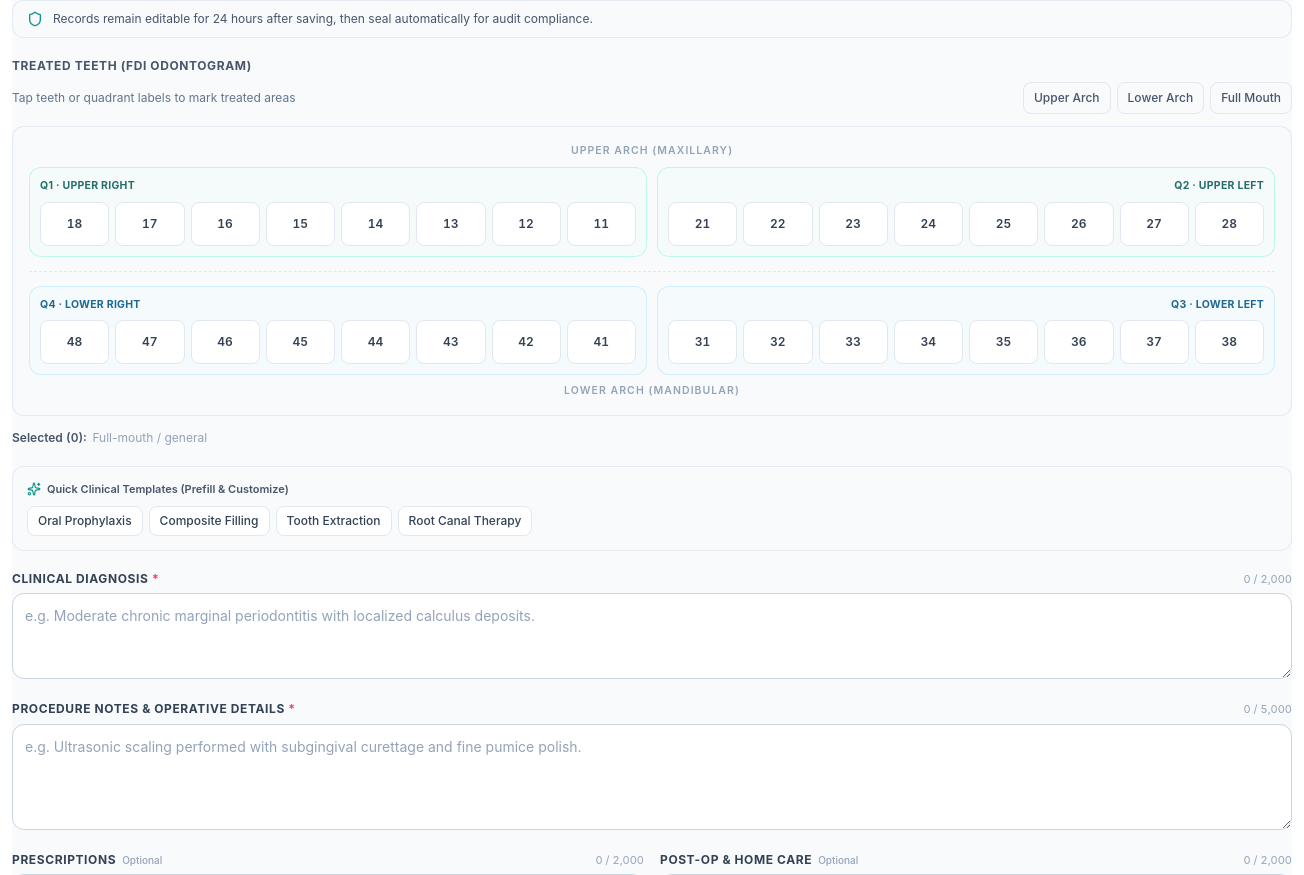
Test: TreatmentRecordEditor Component › toggles Full Mouth, quadrant selection, and Clear in FDI chart
Click the button "Full Mouth": (1251, 98) [1210, 82, 1292, 114]
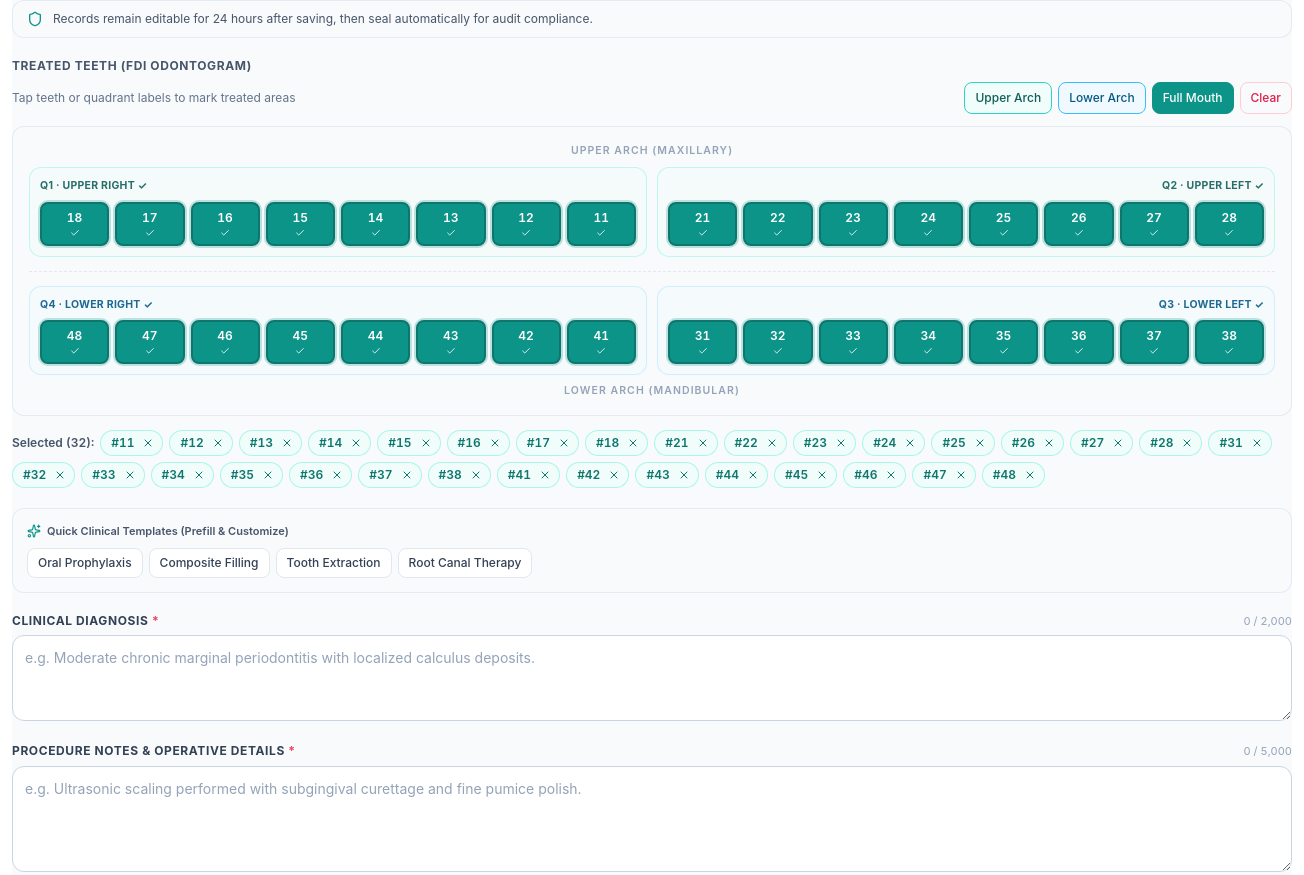
Expected: the text "Selected (32):" is shown, [12, 435, 94, 451]
// Clicking Full Mouth again toggles all 32 teeth off
Click the button "Full Mouth": (1193, 98) [1152, 82, 1234, 114]
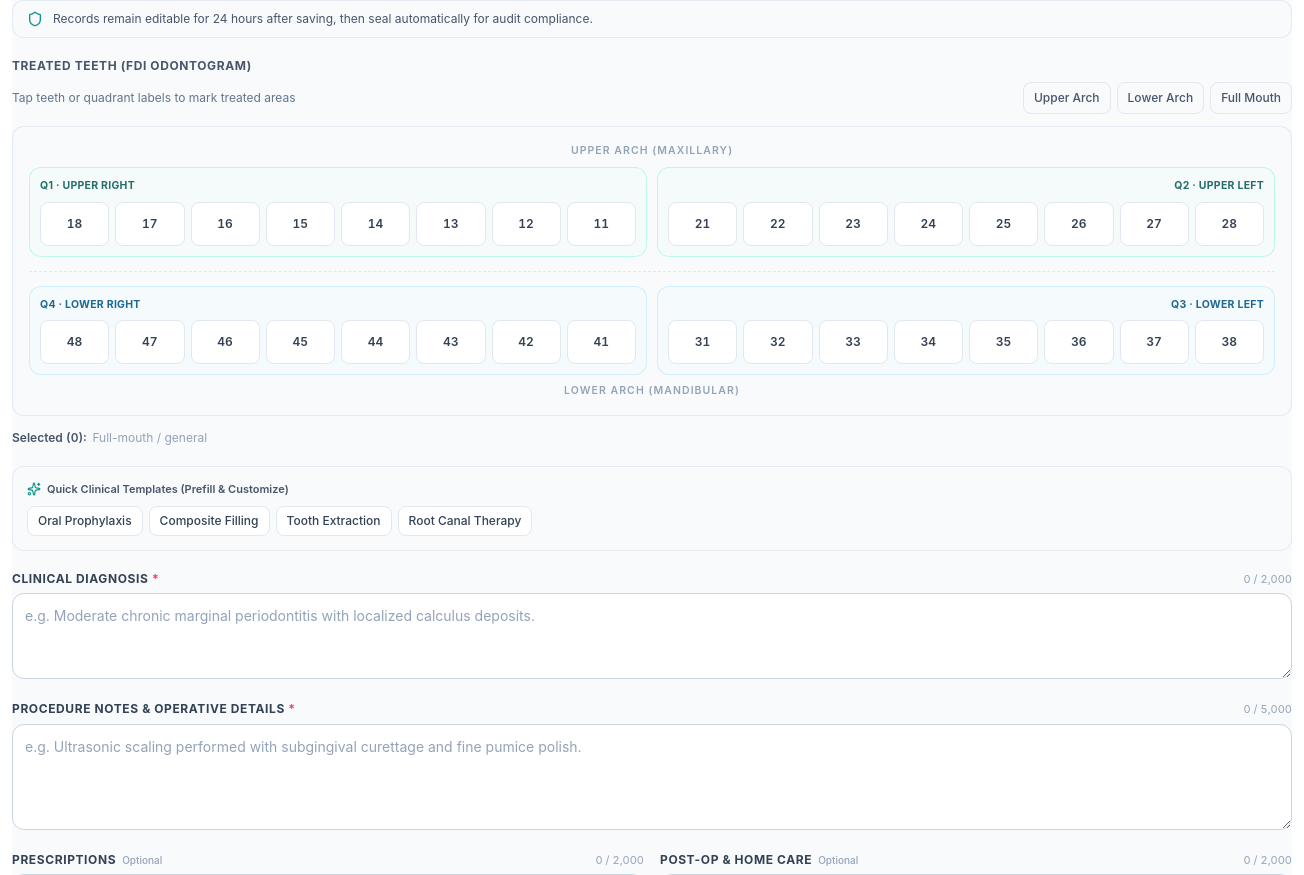
Expected: the text "Selected (0):" is shown, [12, 430, 86, 446]
Click the button "Q1 · Upper Right": (88, 186) [40, 178, 135, 194]
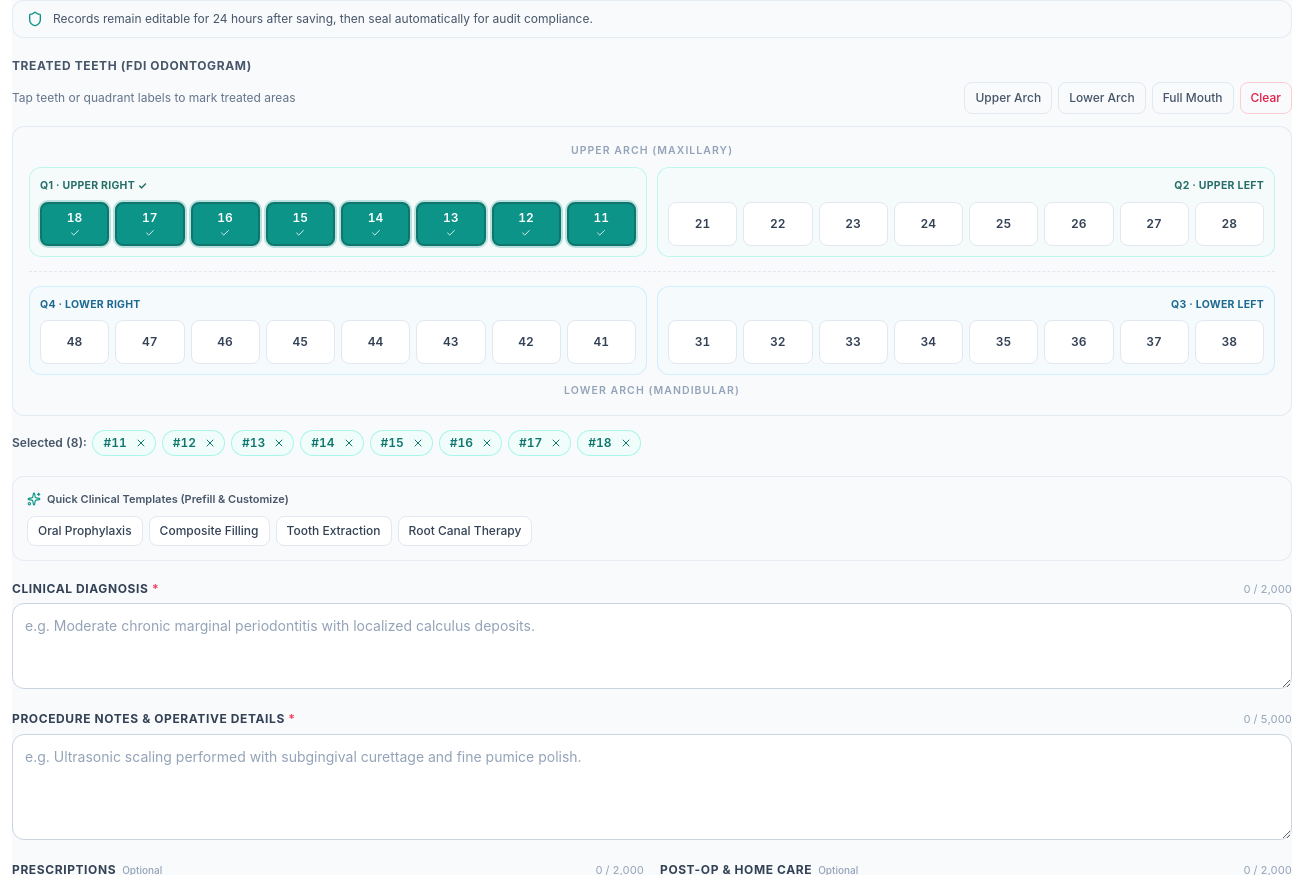
Expected: the text "Selected (8):" is shown, [12, 435, 86, 451]
Click the button "Clear": (1266, 98) [1240, 82, 1292, 114]
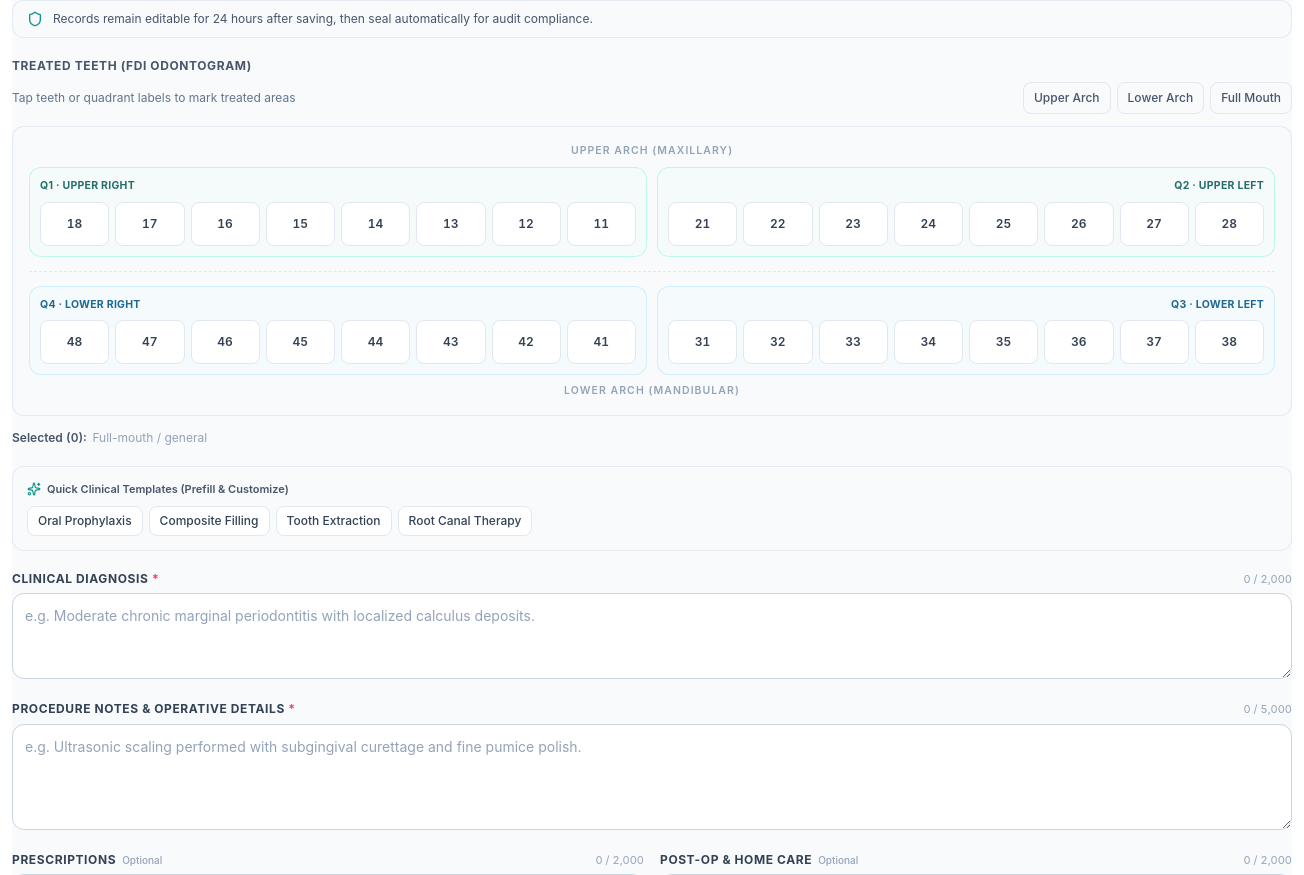
Expected: the text "Selected (0):" is shown, [12, 430, 86, 446]
